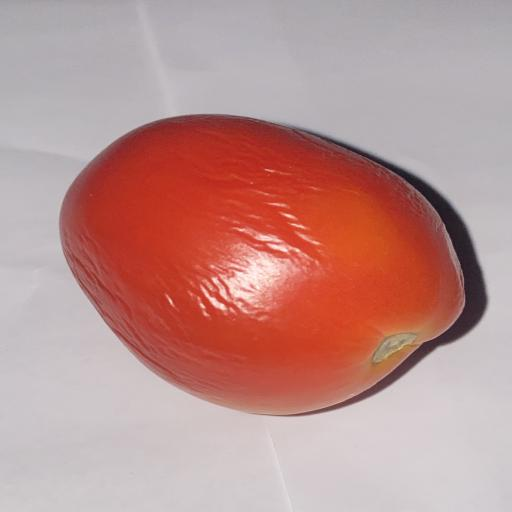overipe: (60, 115, 464, 414)
spoiled: (60, 115, 464, 414)
